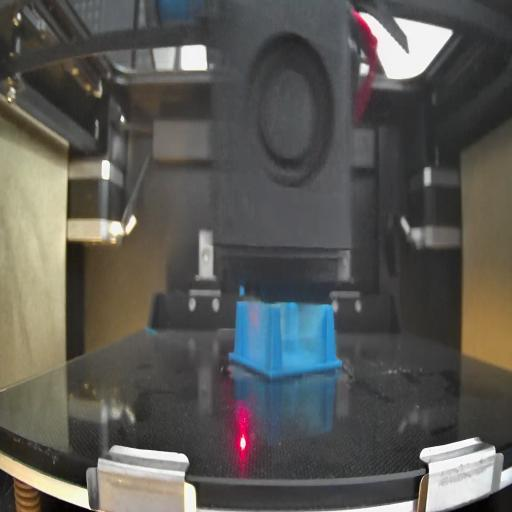stringing: (281, 305, 327, 369), (240, 302, 269, 363)
